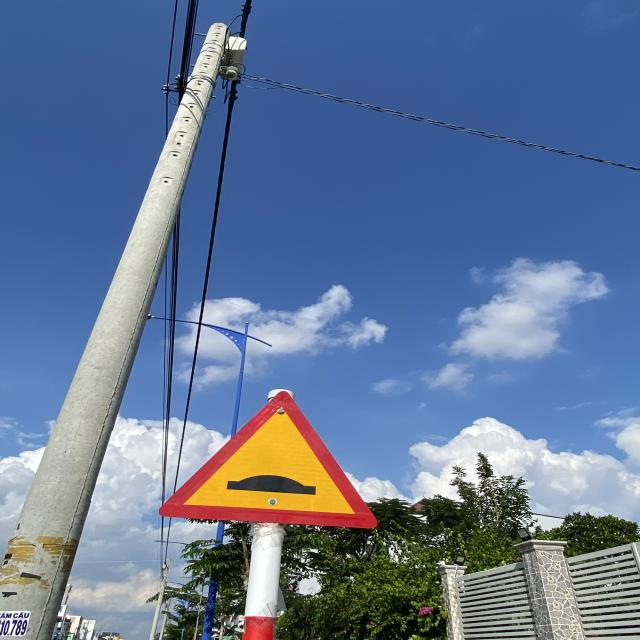Duong_Cong_Ben_Phai: (162, 392, 374, 528)
